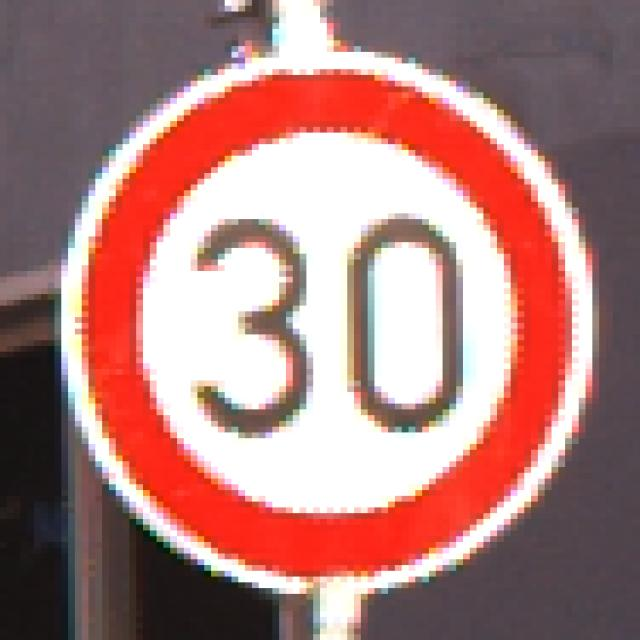Speed Limit -30-: (51, 49, 582, 585)
